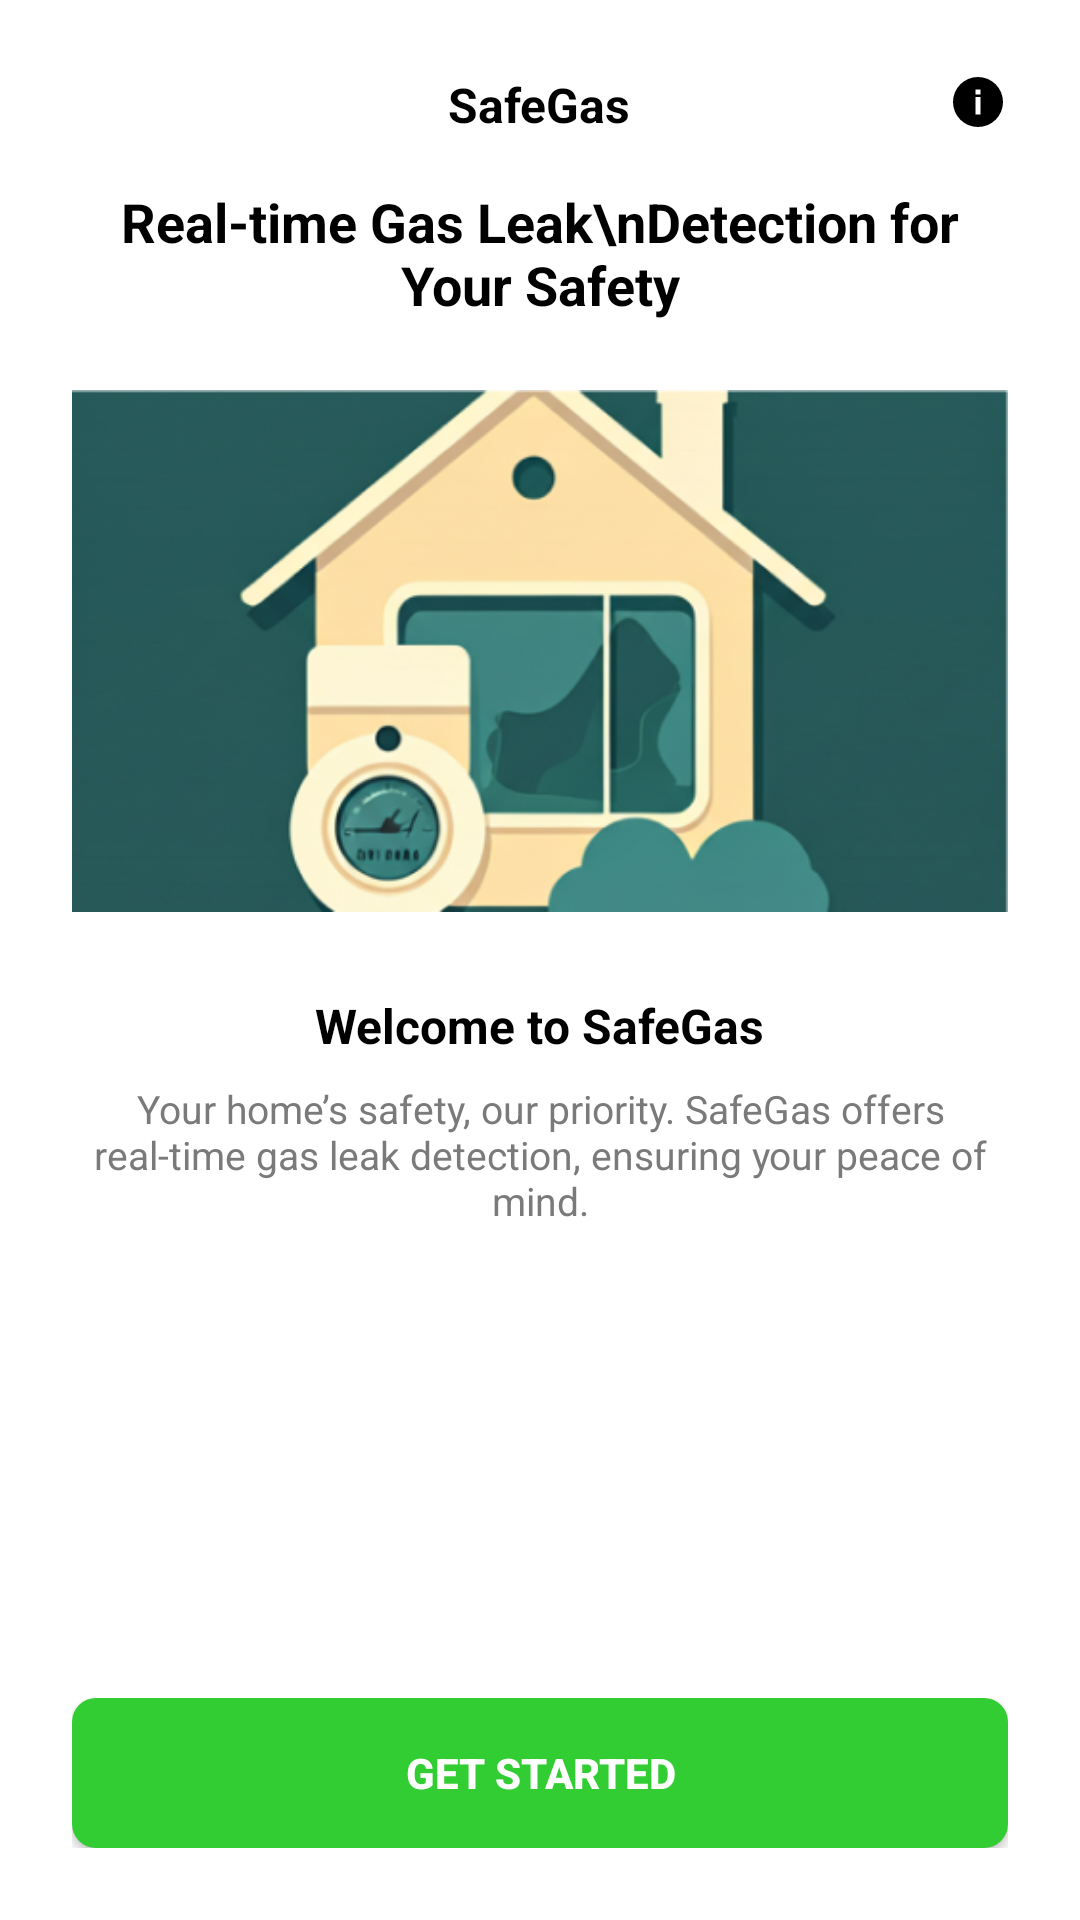

Where to tap for icons on this 1080*1920 app screen, as (x=x, y=y):
Info icon: (x=978, y=102)
